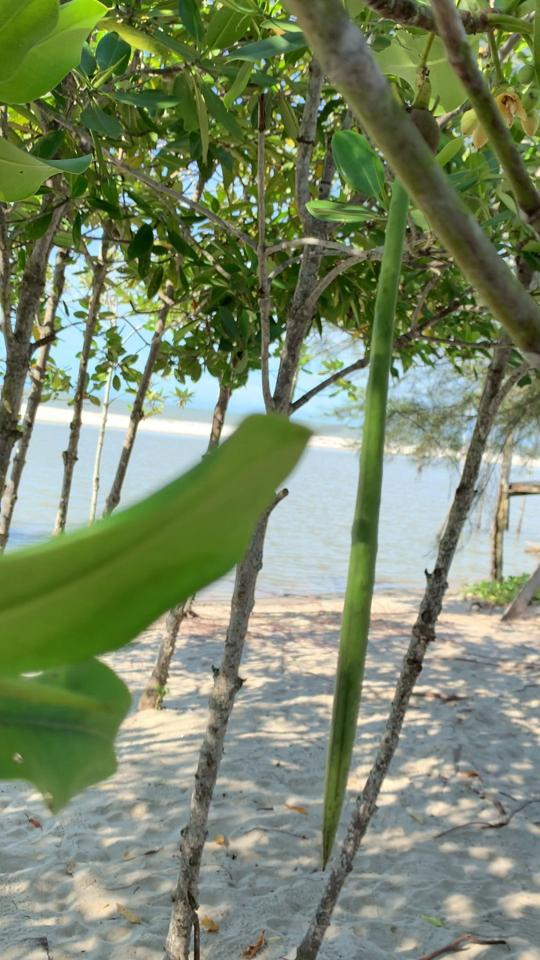setengah matang: (311, 81, 450, 875)
